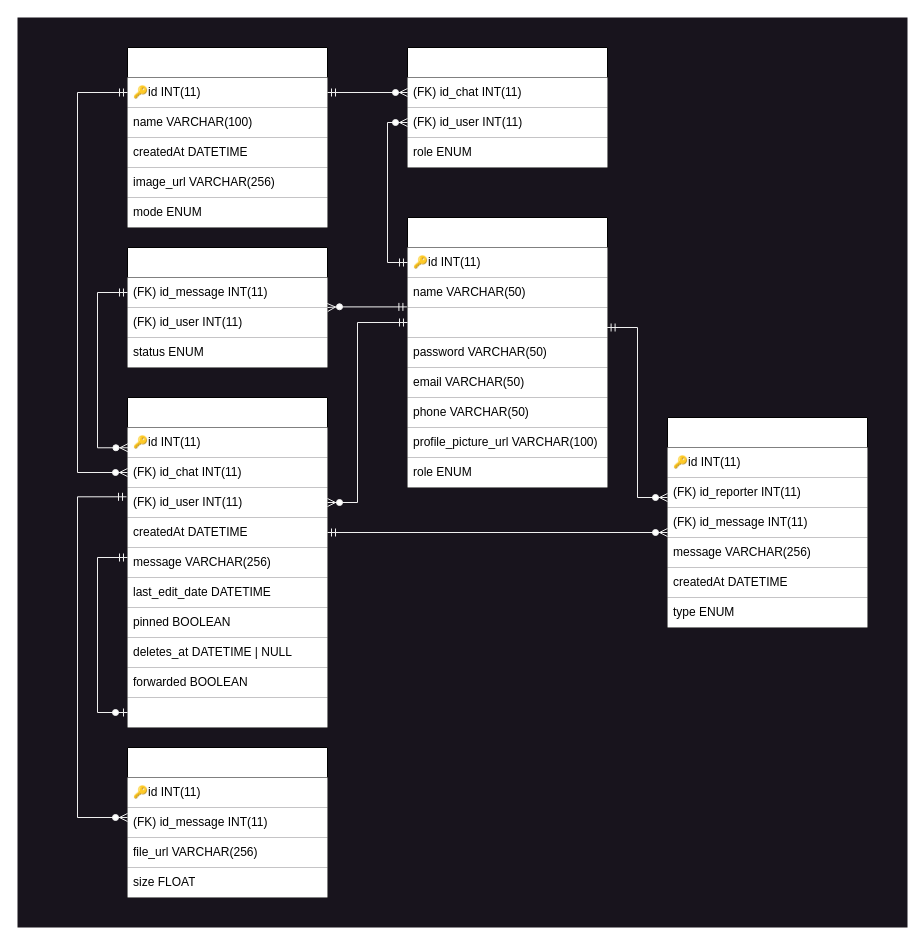
The diagram is 924 pixels wide and 944 high, and some of its shapes have lost their labels. Here are the shapes that lost their labels. From the top down, the box of each, then its label:
(406, 46, 608, 168): Members
(126, 46, 328, 228): Chats
(126, 246, 328, 368): MessageStatuses
(407, 307, 607, 337): last_name VARCHAR(50)
(406, 216, 608, 488): Users
(666, 416, 868, 628): Reports
(126, 396, 328, 728): Messages
(127, 697, 327, 727): (FK) responding_to INT | NULL
(126, 746, 328, 898): MessageFiles
